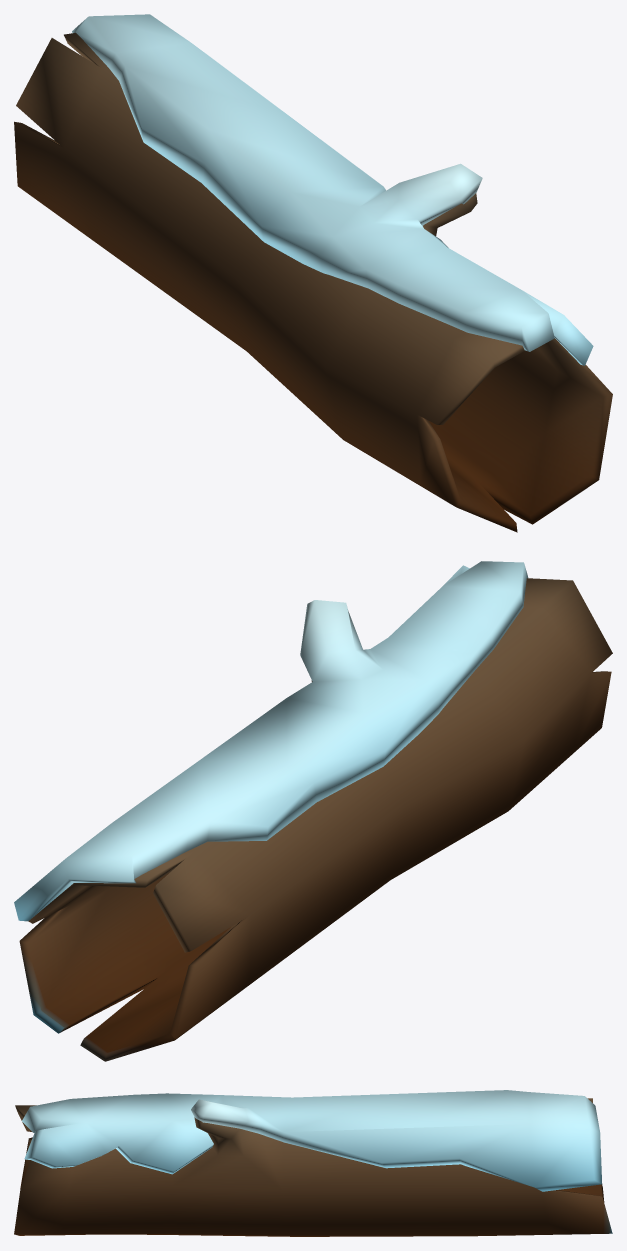
Rendered from Trunk_0_1.fbx.
3 renders of one model, top to bottom at view 1: azimuth 30°, elevation 25°; view 2: azimuth 150°, elevation 25°; view 3: azimuth 270°, elevation 25°, orthographic. The views are drawn at different scales.
Parts seen in each view (by area): view 1: tree-trunk.003; view 2: tree-trunk.003; view 3: tree-trunk.003.
Part boxes in pixels (x1=…): tree-trunk.003: x1=14, y1=14, x2=612, y2=532; tree-trunk.003: x1=14, y1=561, x2=612, y2=1061; tree-trunk.003: x1=14, y1=1090, x2=612, y2=1236.
Size of the model in its own units: 119 by 139 by 470.
